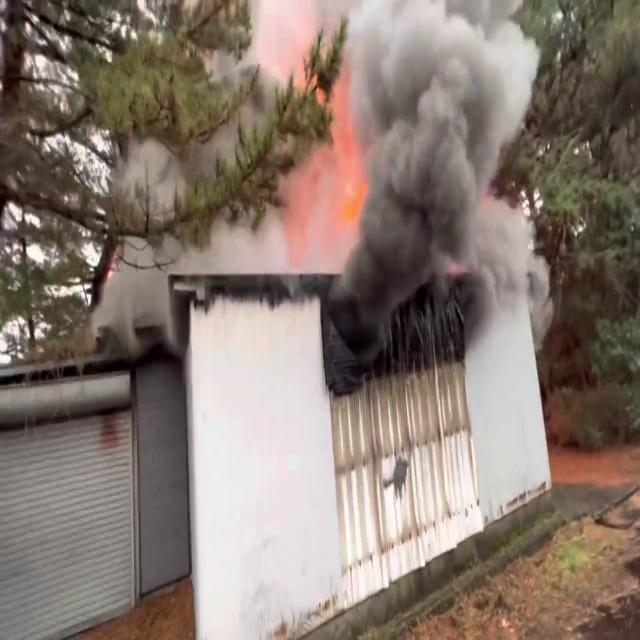Smoke: (302, 0, 532, 361)
